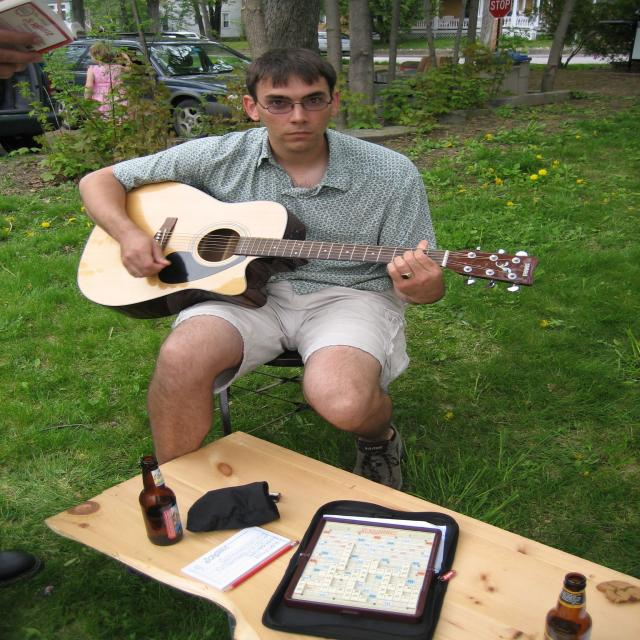guitar: (77, 178, 541, 320)
